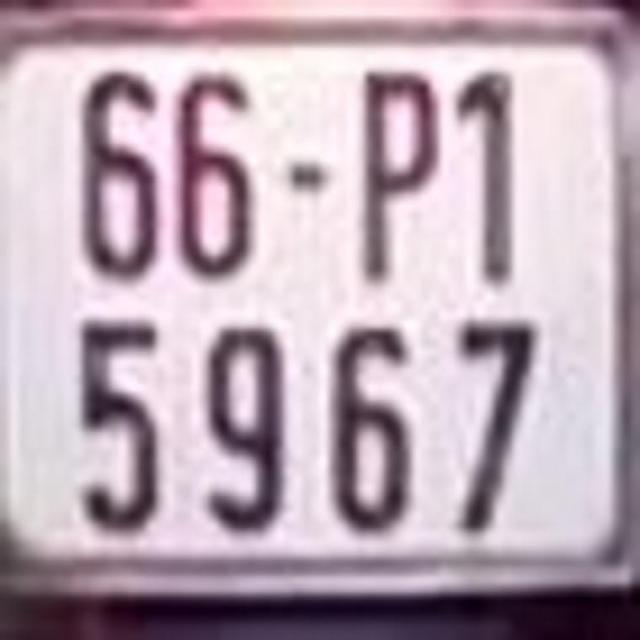1: (449, 62, 523, 284)
5: (73, 316, 162, 532)
6: (76, 66, 160, 285), (326, 314, 408, 533), (170, 62, 250, 280)
7: (453, 308, 536, 535)
9: (198, 310, 280, 532)
P: (352, 66, 442, 279)
